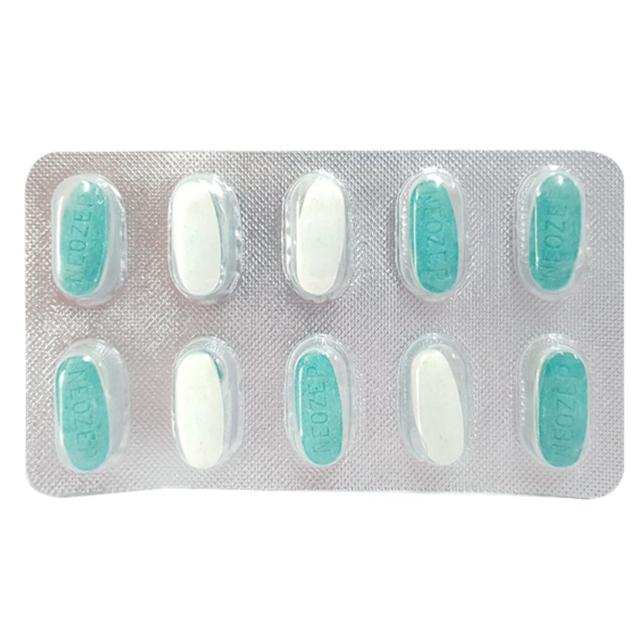blister: (18, 144, 631, 510)
